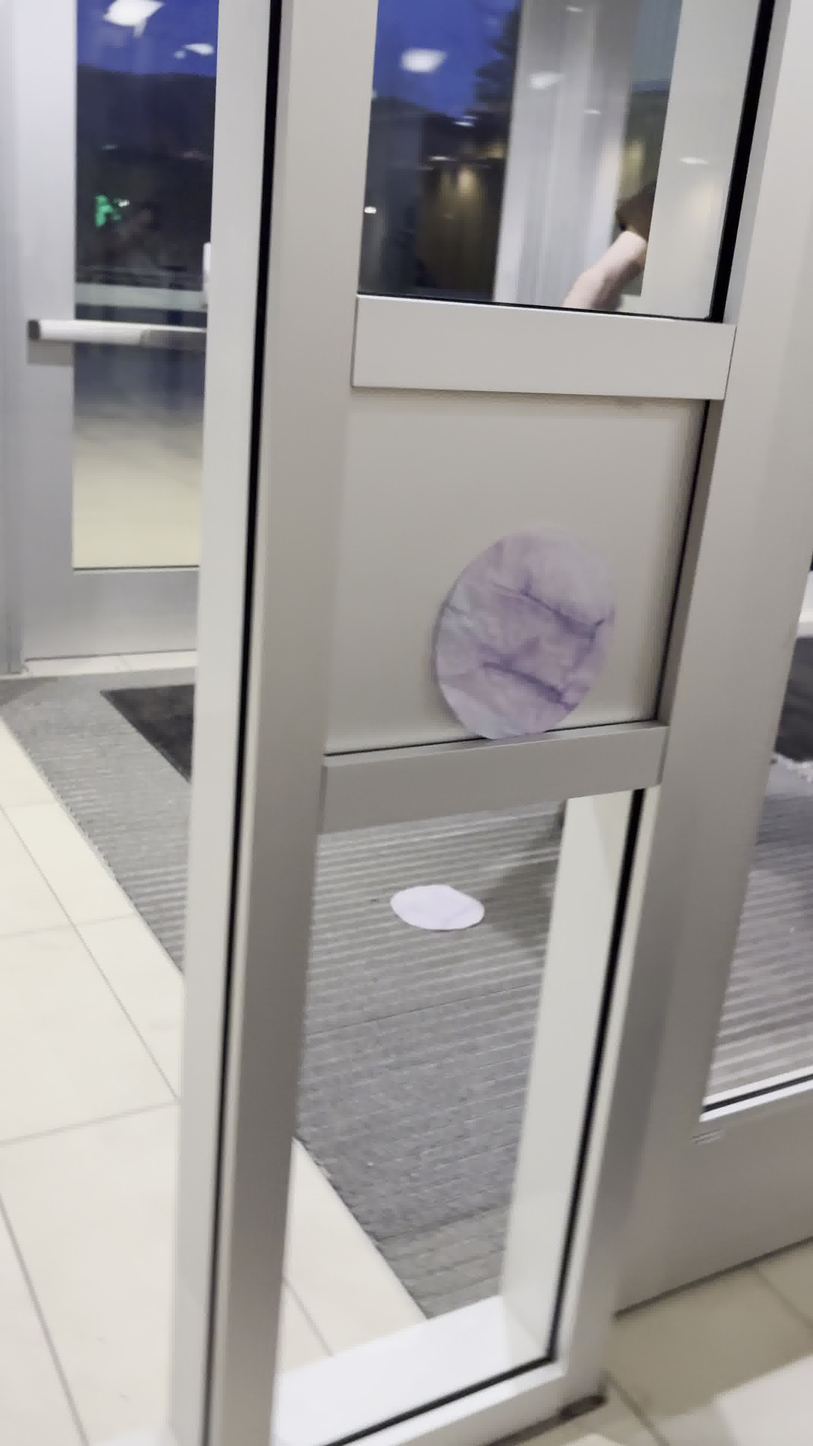Target: (431, 530, 618, 741)
